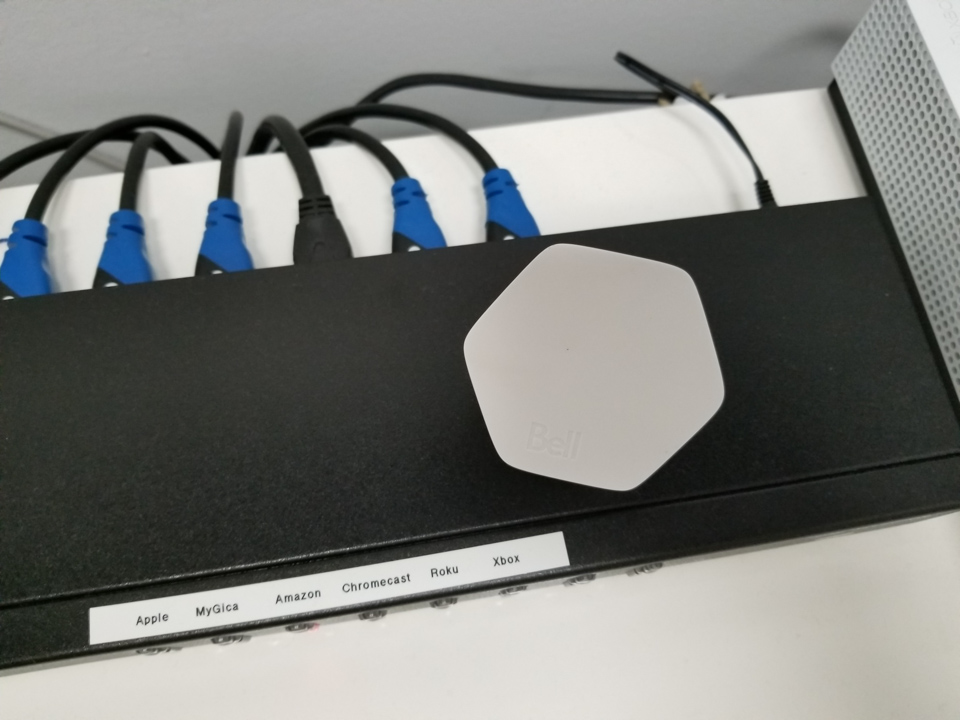pod: (460, 240, 732, 499)
